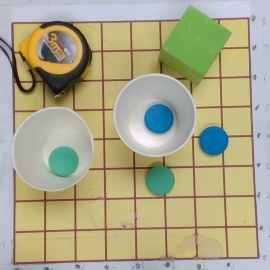blue: (199, 126, 229, 157)
cup_blue: (112, 74, 199, 159)
cup_green: (13, 107, 97, 194)
green: (145, 166, 176, 195)
